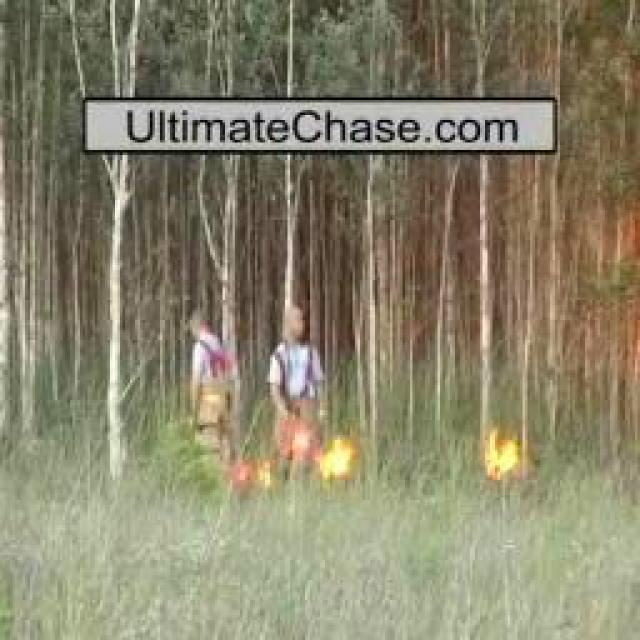Fire: (486, 430, 524, 489), (320, 437, 360, 482), (239, 456, 274, 492), (291, 429, 313, 456)
